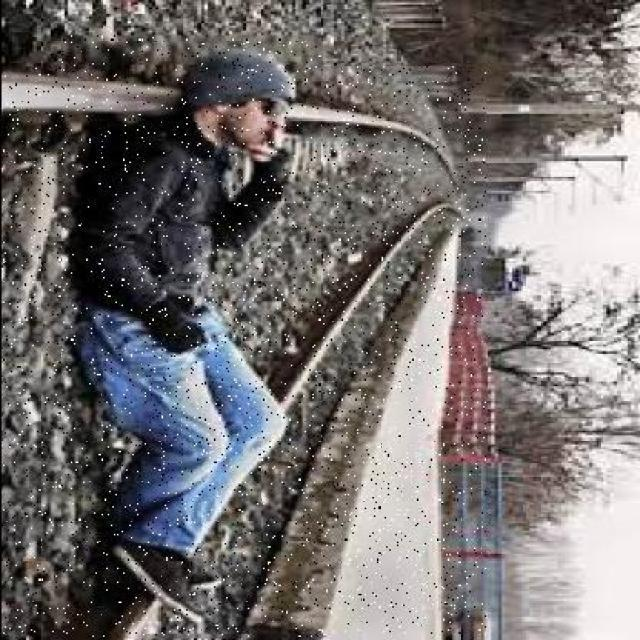danger: (58, 36, 320, 637)
rail: (0, 67, 484, 634)
